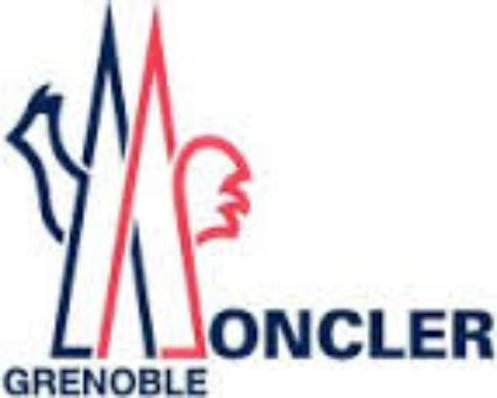MONCLER: (3, 1, 254, 359)
